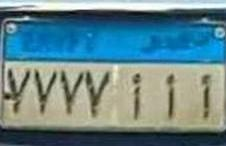7: (85, 68, 110, 118), (5, 66, 30, 115), (58, 68, 82, 116), (34, 67, 57, 114)
alif: (158, 72, 180, 121), (127, 71, 147, 119), (195, 72, 214, 122)
